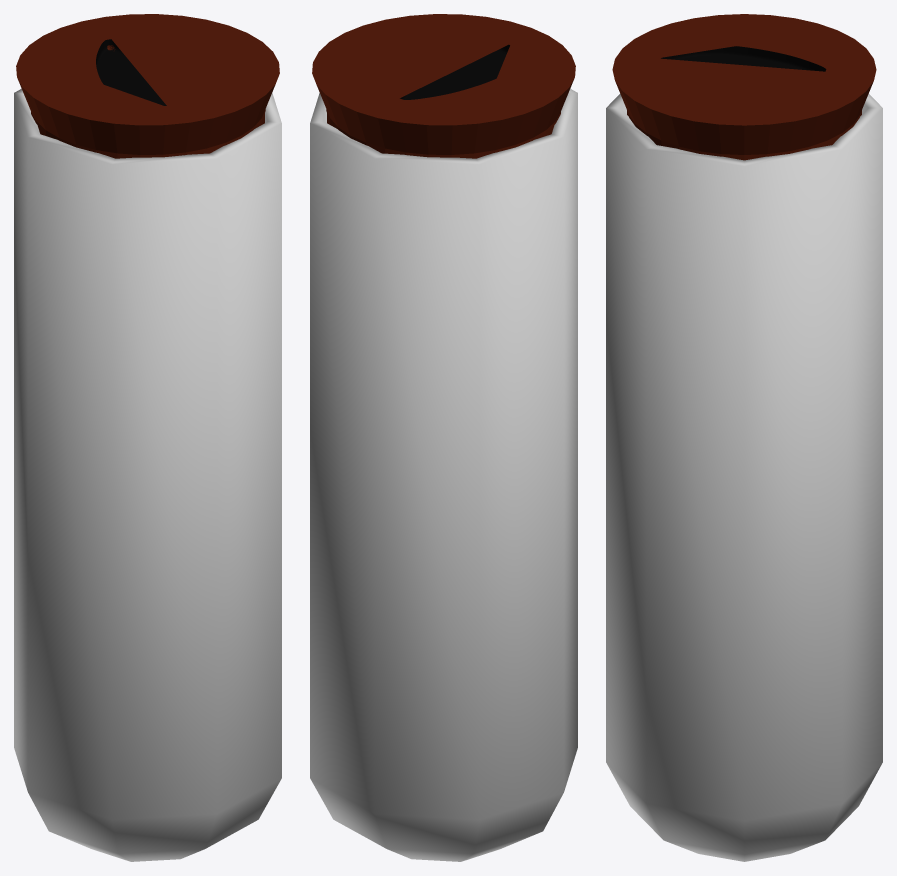
File: bloodSample.obj
The picture shows the model from 3 angles, left to right: view 1: azimuth 30°, elevation 25°; view 2: azimuth 150°, elevation 25°; view 3: azimuth 270°, elevation 25°; orthographic projection.
Visible parts, largest first — view 1: bottle_glassware_boiling_tube_large, Cylinder; view 2: bottle_glassware_boiling_tube_large, Cylinder; view 3: bottle_glassware_boiling_tube_large, Cylinder.
Boxes of the visible parts, x1=… form: bottle_glassware_boiling_tube_large: x1=14, y1=89, x2=281, y2=861; Cylinder: x1=16, y1=14, x2=279, y2=158; bottle_glassware_boiling_tube_large: x1=310, y1=89, x2=577, y2=861; Cylinder: x1=312, y1=14, x2=575, y2=158; bottle_glassware_boiling_tube_large: x1=606, y1=94, x2=882, y2=861; Cylinder: x1=612, y1=14, x2=876, y2=160.
Bounding box in the file's own units: 7.76 × 23.66 × 7.76.
